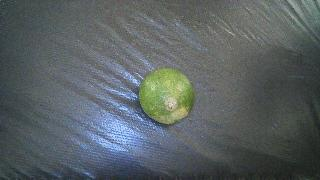DESECHO: (139, 68, 195, 124)
